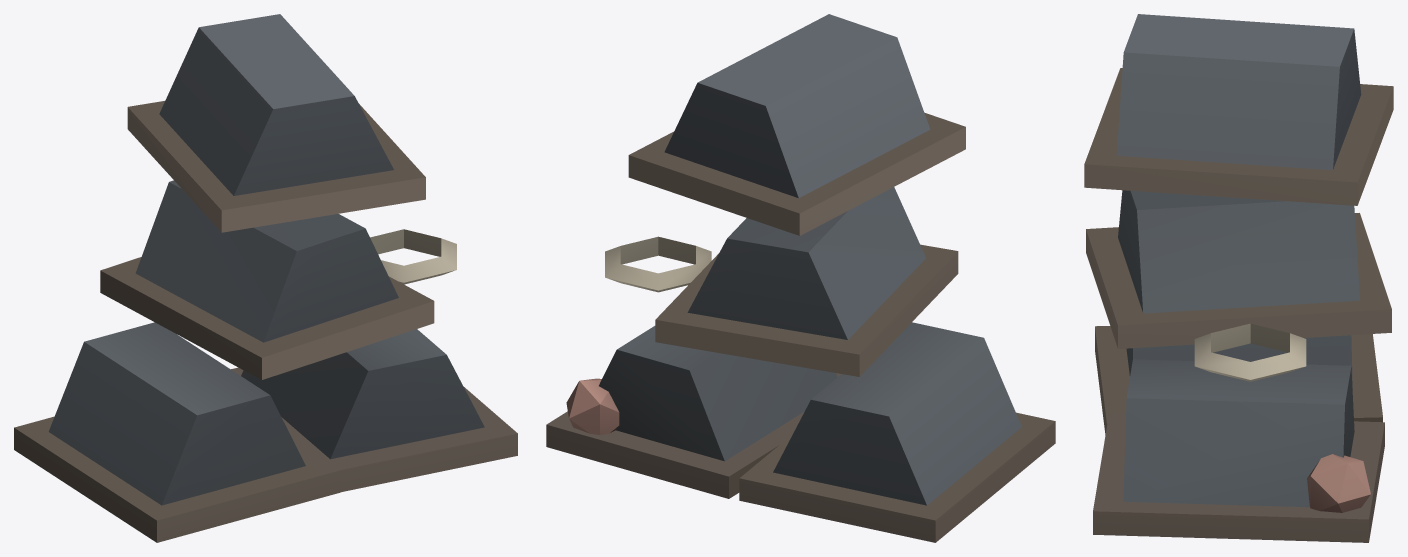
The model's file is pots.lod1.glb.
3 renders of one model, left to right at view 1: azimuth 30°, elevation 25°; view 2: azimuth 150°, elevation 25°; view 3: azimuth 270°, elevation 25°, orthographic. The views are drawn at different scales.
Size of the model in its own units: 0.8186 by 0.7773 by 0.5366.
